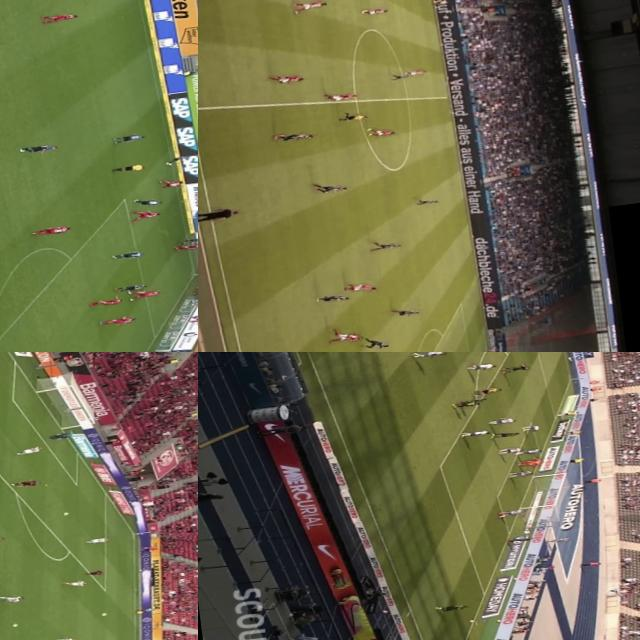ball: (465, 616, 476, 624), (167, 160, 174, 165), (11, 622, 17, 626), (100, 612, 106, 616), (62, 511, 68, 515)
player: (41, 8, 82, 24), (340, 278, 381, 294), (328, 324, 364, 342), (18, 140, 59, 154), (288, 0, 328, 13), (130, 286, 167, 300), (267, 70, 304, 84), (360, 334, 394, 349), (30, 223, 74, 234), (313, 180, 348, 193), (100, 314, 136, 326), (133, 207, 166, 220), (389, 305, 424, 317), (316, 290, 351, 302), (132, 196, 164, 208), (114, 132, 146, 144), (274, 130, 312, 140), (432, 602, 470, 612), (322, 90, 358, 100), (156, 177, 186, 188), (116, 282, 148, 292), (114, 248, 146, 258), (370, 240, 402, 250), (366, 126, 398, 136), (488, 429, 520, 439), (92, 296, 123, 306), (361, 6, 392, 16), (10, 478, 41, 488), (516, 456, 547, 466), (461, 428, 492, 438), (468, 360, 498, 370), (407, 352, 449, 359), (501, 362, 530, 372), (163, 153, 190, 163), (508, 468, 535, 478), (498, 444, 524, 454), (0, 591, 22, 602), (462, 396, 486, 406), (14, 446, 43, 454), (497, 508, 526, 516), (453, 399, 481, 407), (174, 241, 198, 250), (490, 415, 514, 424), (62, 578, 85, 587), (86, 536, 109, 544), (415, 197, 441, 204), (515, 447, 541, 454), (179, 234, 198, 243), (404, 68, 425, 76), (520, 424, 540, 432), (46, 635, 77, 640), (391, 73, 411, 79), (82, 570, 102, 576), (48, 434, 72, 439)
